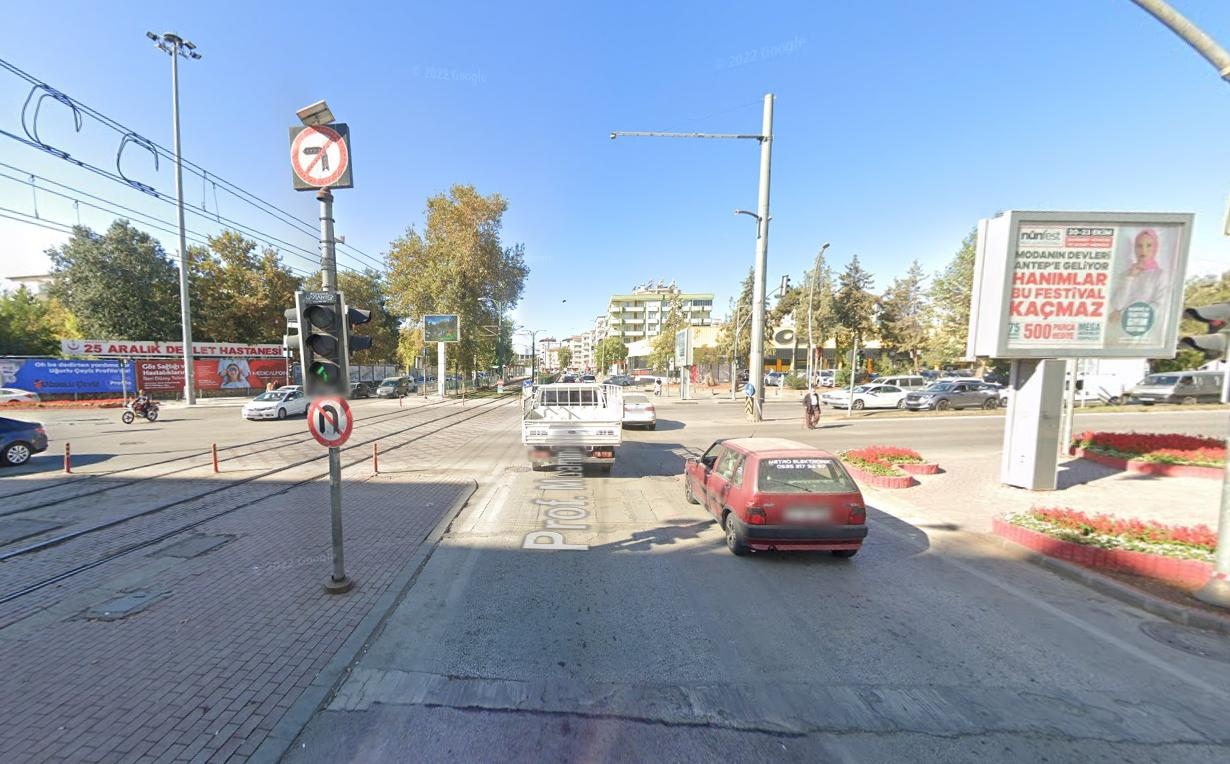leftturnsareforbidden: (294, 130, 344, 186)
